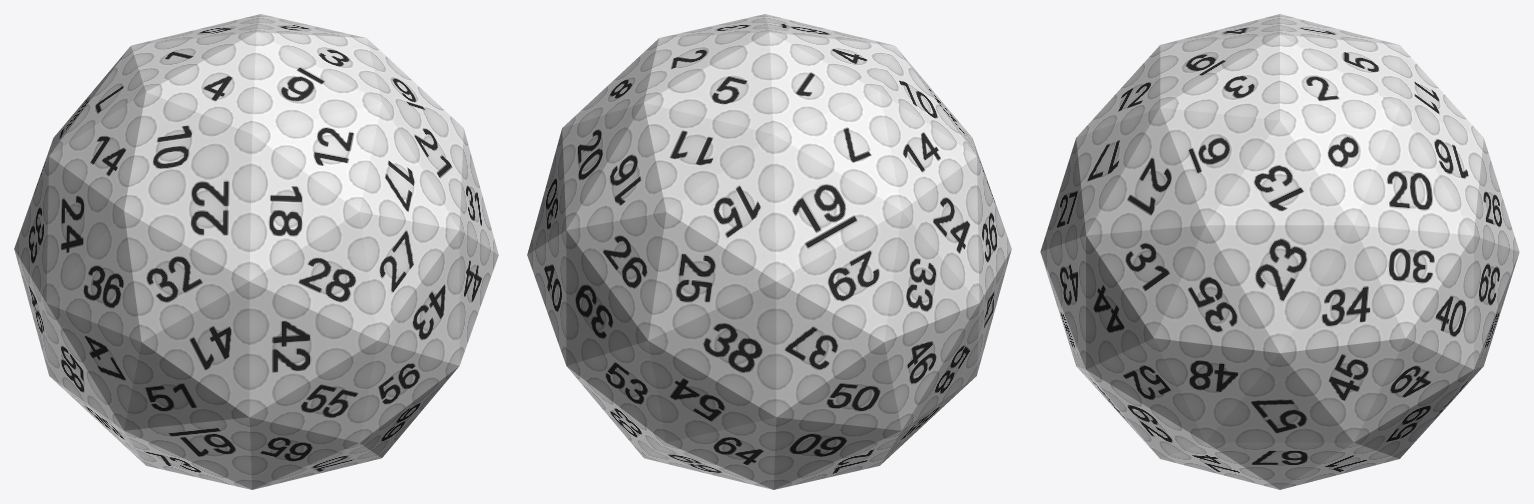
File: ball_numbers.obj
3 renders of one model, left to right at view 1: azimuth 30°, elevation 25°; view 2: azimuth 150°, elevation 25°; view 3: azimuth 270°, elevation 25°, orthographic.
Parts seen in each view (by area): view 1: ball; view 2: ball; view 3: ball.
Part boxes in pixels (left/top/right/bottom): ball: left=14, top=14, right=498, bottom=489; ball: left=527, top=14, right=1011, bottom=489; ball: left=1040, top=14, right=1519, bottom=489.
Bounding box in the file's own units: 50 × 50 × 50.
Materials: 1 (1 with a texture image).
